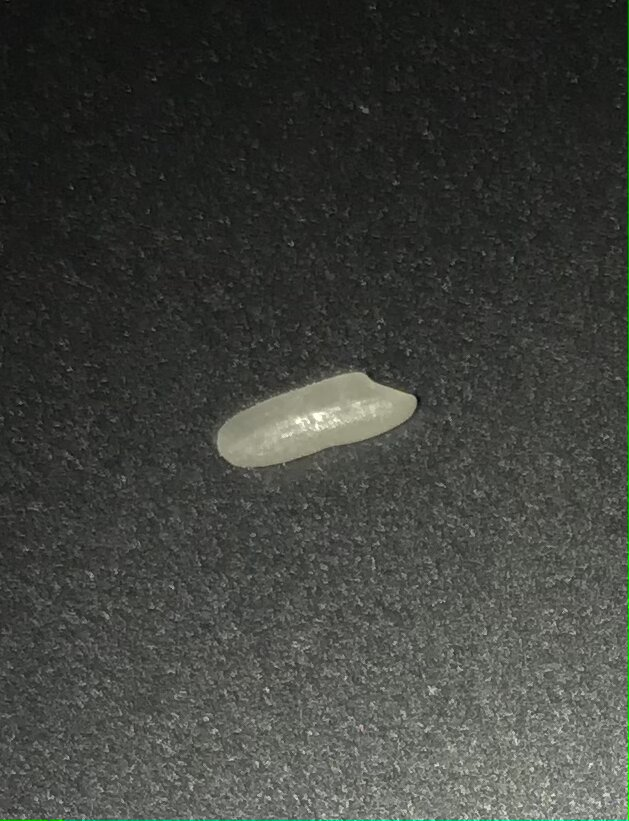Gao Long Lai: (201, 360, 426, 479)
